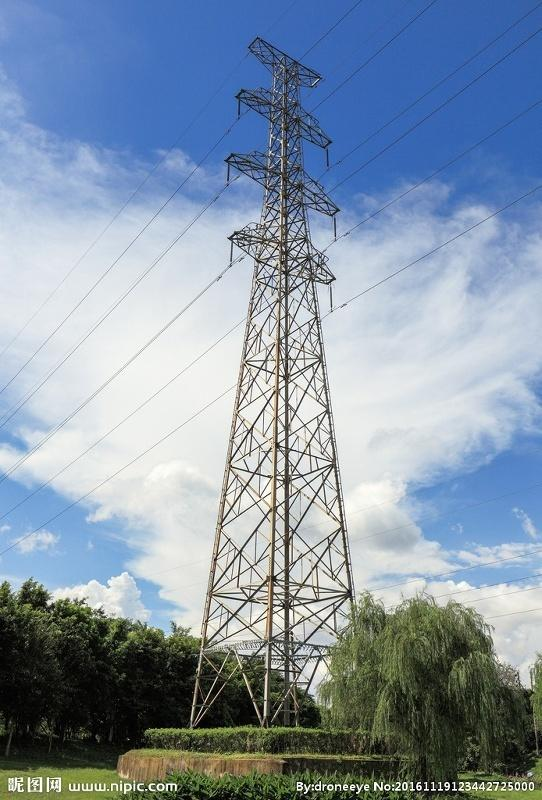power_tower: (195, 23, 370, 715)
